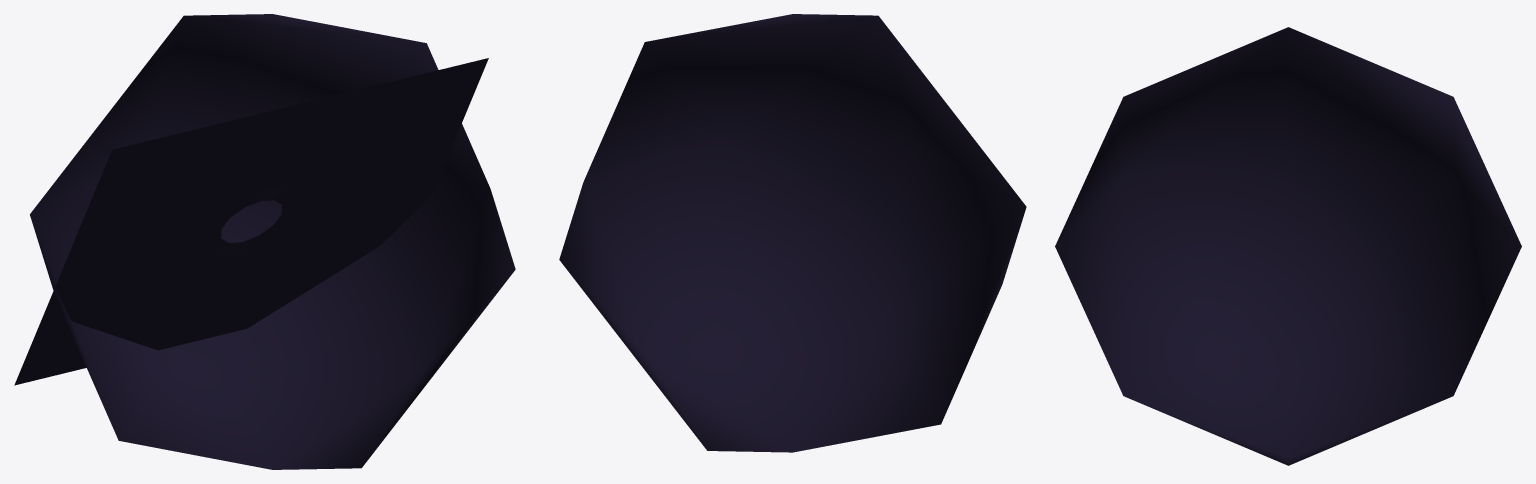
The model's file is model_skywall.glb.
3 renders of one model, left to right at view 1: azimuth 30°, elevation 25°; view 2: azimuth 150°, elevation 25°; view 3: azimuth 270°, elevation 25°, orthographic. The views are drawn at different scales.
Visible parts, largest first — view 1: A:\.Yandex.YandexDisk.SK SHARED FILES.Game models.1 Exported (×2); view 2: A:\.Yandex.YandexDisk.SK SHARED FILES.Game models.1 Exported; view 3: A:\.Yandex.YandexDisk.SK SHARED FILES.Game models.1 Exported.
Boxes of the visible parts, <box> form: A:\.Yandex.YandexDisk.SK SHARED FILES.Game models.1 Exported (×2): <box>14,14,515,469</box>; A:\.Yandex.YandexDisk.SK SHARED FILES.Game models.1 Exported: <box>559,14,1026,452</box>; A:\.Yandex.YandexDisk.SK SHARED FILES.Game models.1 Exported: <box>1055,27,1521,465</box>.
Bounding box in the file's own units: 185 × 185 × 185.
1 material, 1 textured.
